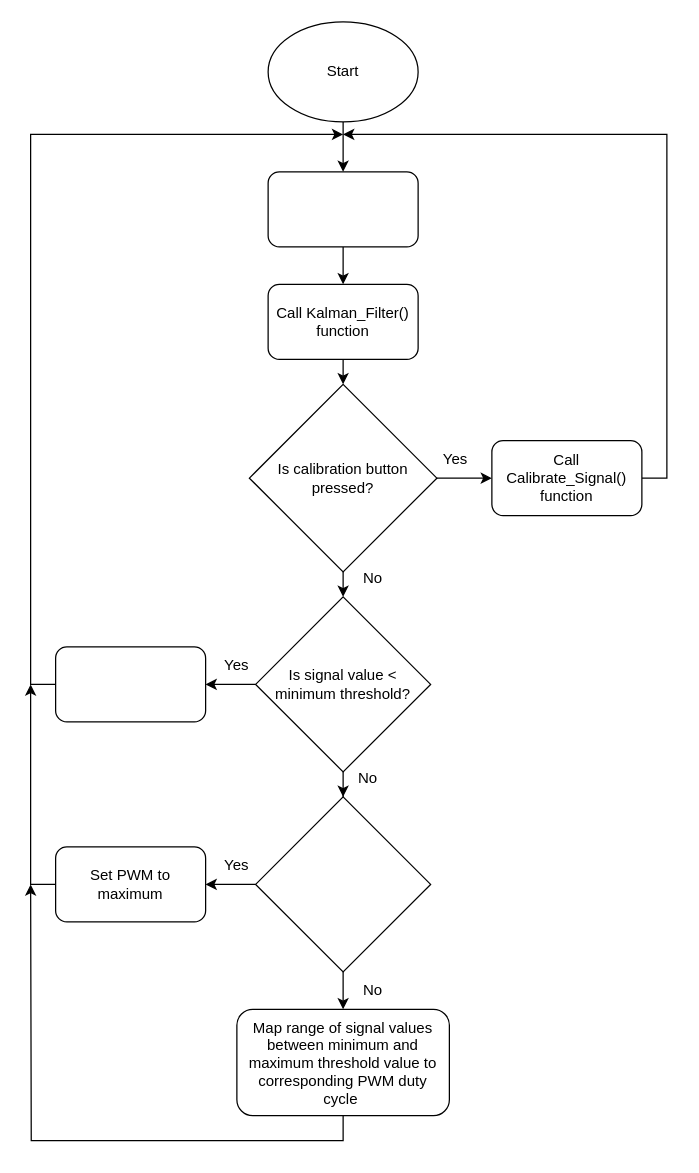
This 699x1173 diagram has some shape labels left out. The shapes that lost their labels are listed below. From the top down, each one's centre as x and y in pixels, then its label:
At point (342, 209): "Read sensor analog value".
At point (130, 684): "Set PWM to minimum".
At point (342, 884): "Is signal value > maximum threshold?".
